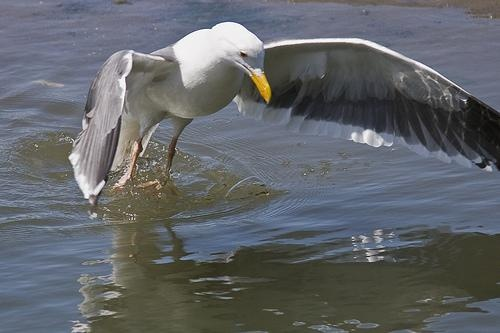bird: (64, 18, 500, 212)
